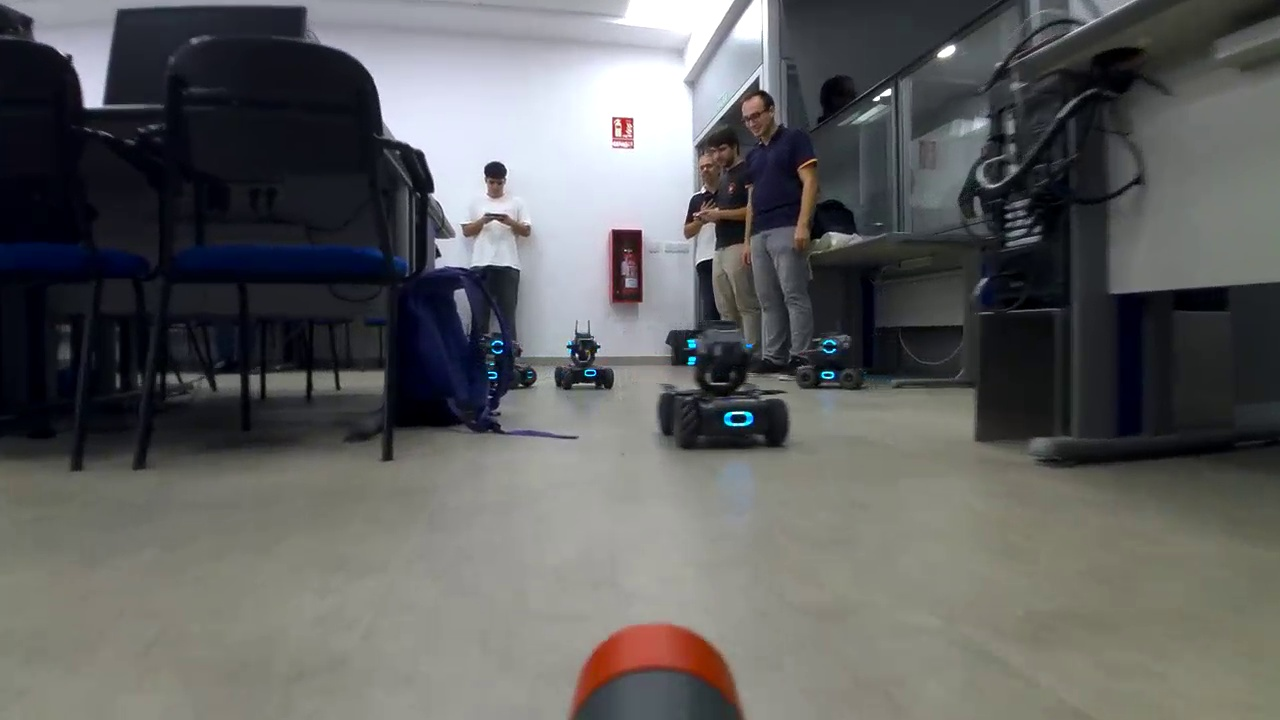robot: (654, 315, 792, 458), (790, 329, 873, 395), (549, 329, 618, 397), (469, 328, 538, 392)
